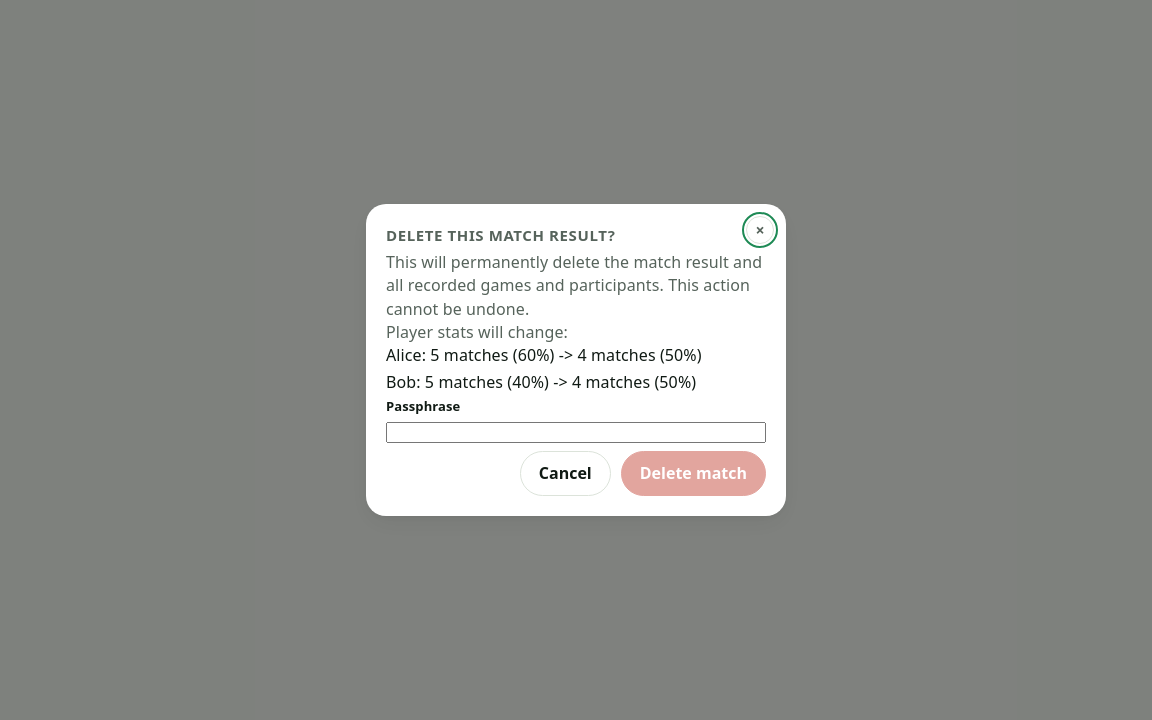
Test: DeleteMatchConfirmModal › shows the generic error message and keeps the field populated on a rejected delete
The width and height of the screenshot is (1152, 720).
Type "wrong-secret" into the password field labelled "Passphrase".
click(576, 432); type("wrong-secret")  # box x1=386 y1=422 x2=766 y2=443
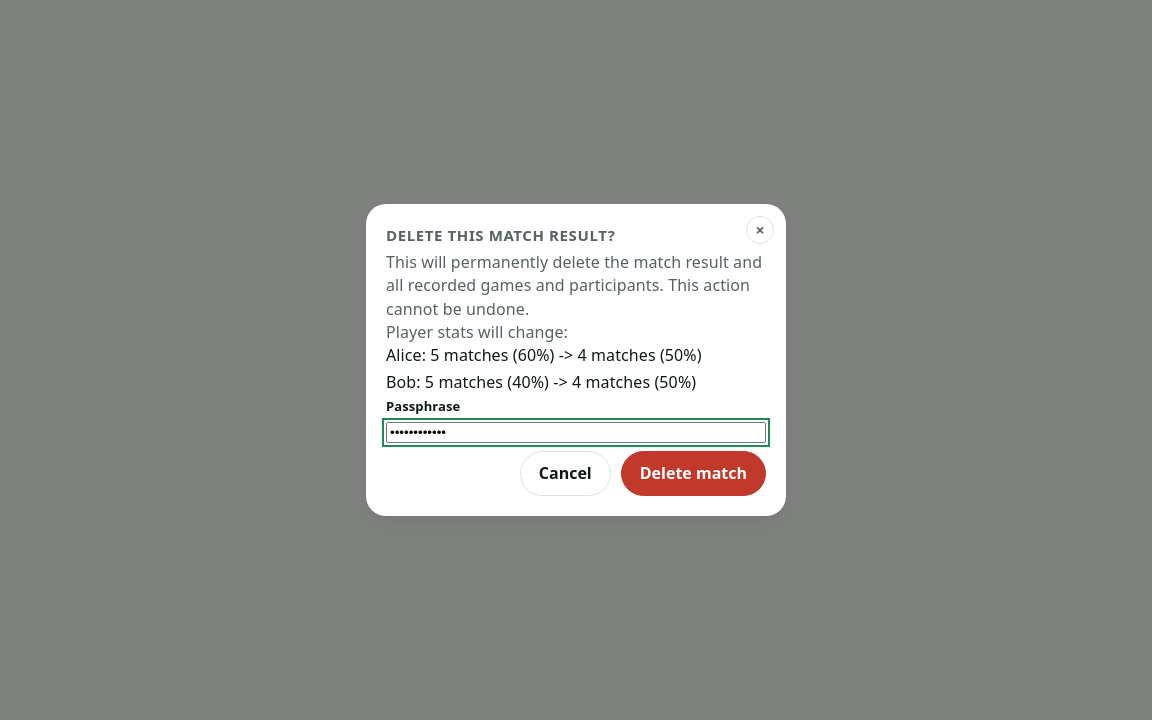
Click the button "Delete match".
click(693, 473)  # box x1=621 y1=451 x2=766 y2=496
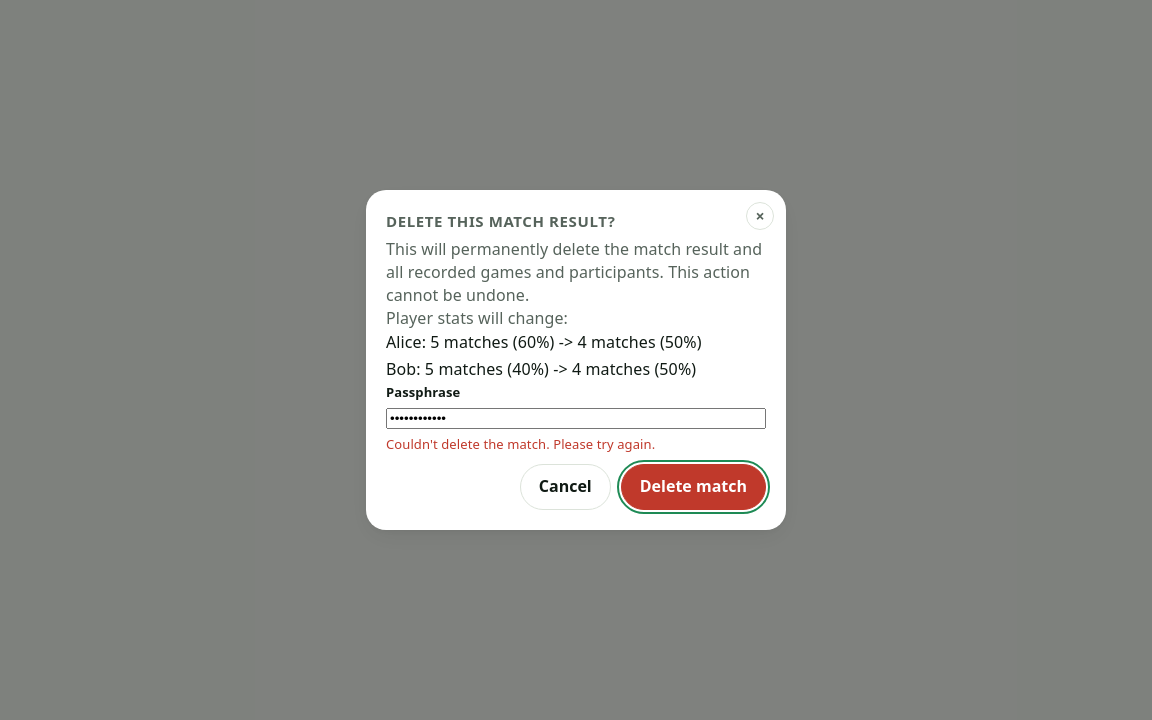
Now the text "Couldn't delete the match. Please try again." is shown, box x1=386 y1=435 x2=655 y2=453
